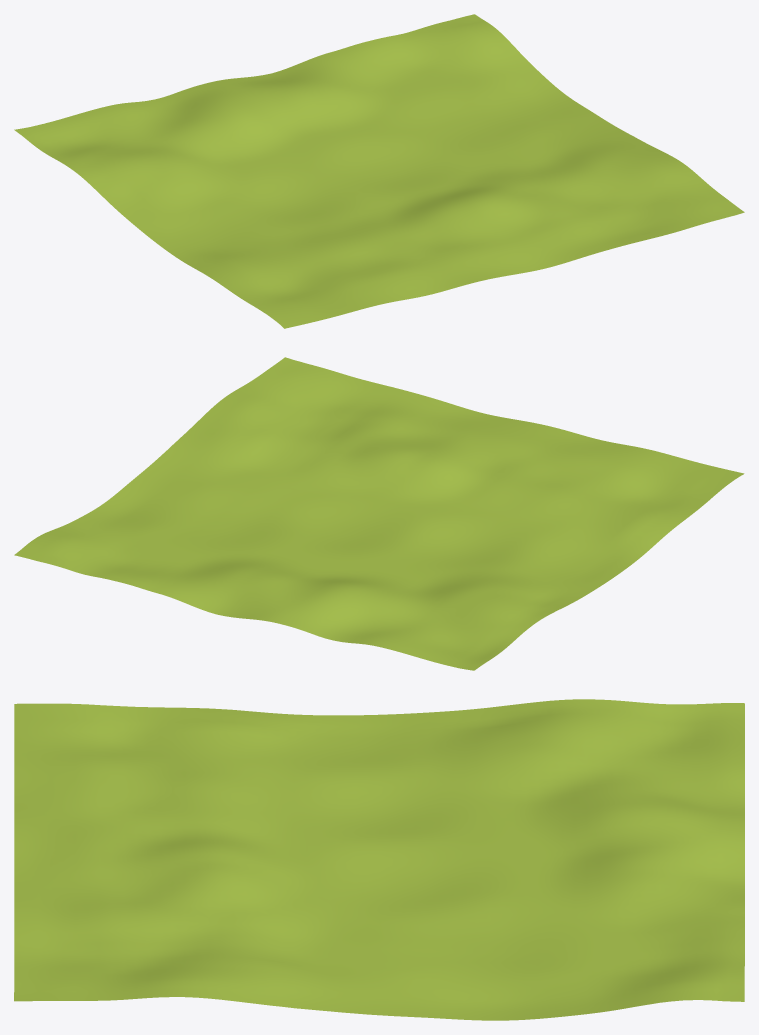
File: carre12.fbx
The picture shows the model from 3 angles, top to bottom: view 1: azimuth 30°, elevation 25°; view 2: azimuth 150°, elevation 25°; view 3: azimuth 270°, elevation 25°; orthographic projection. The views are drawn at different scales.
Parts seen in each view (by area): view 1: carre12; view 2: carre12; view 3: carre12.
Boxes of the visible parts, box(x1,y1,x2,y2) form: carre12: box(14, 14, 744, 328); carre12: box(14, 357, 744, 670); carre12: box(14, 699, 744, 1020).
Bounding box in the file's own units: 708 × 27.82 × 721.
